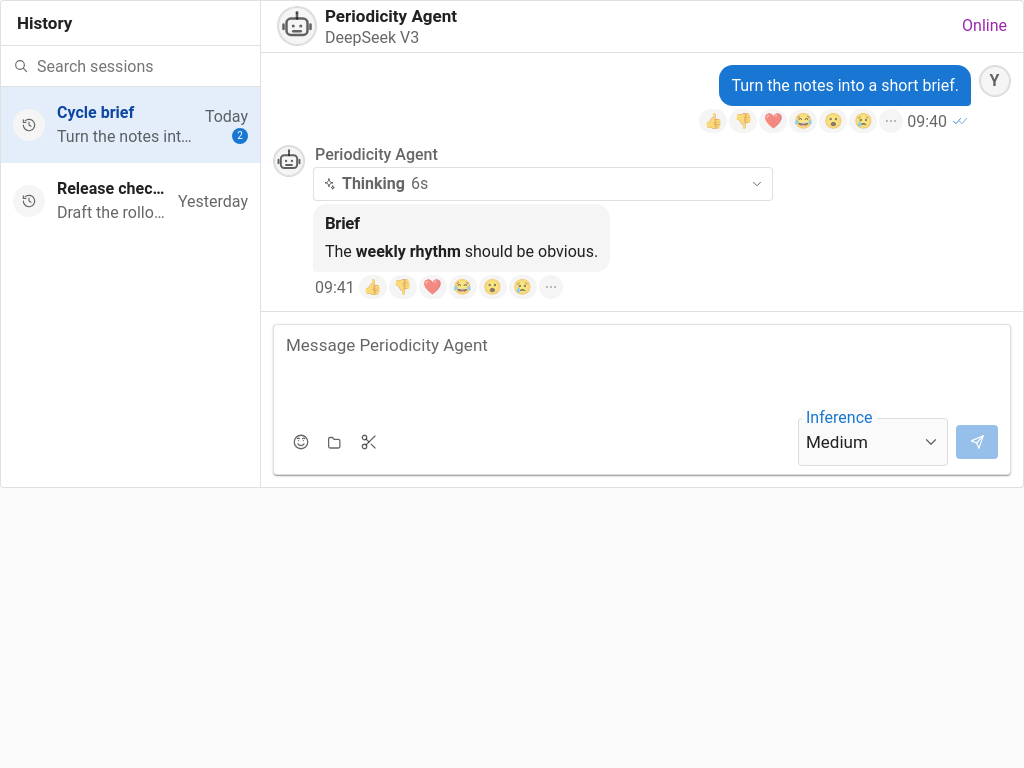
agent chat › changes the inference level through the shared Select component
The width and height of the screenshot is (1024, 768).
Click the dropdown named "Inference": [873, 442] box [798, 418, 948, 466]
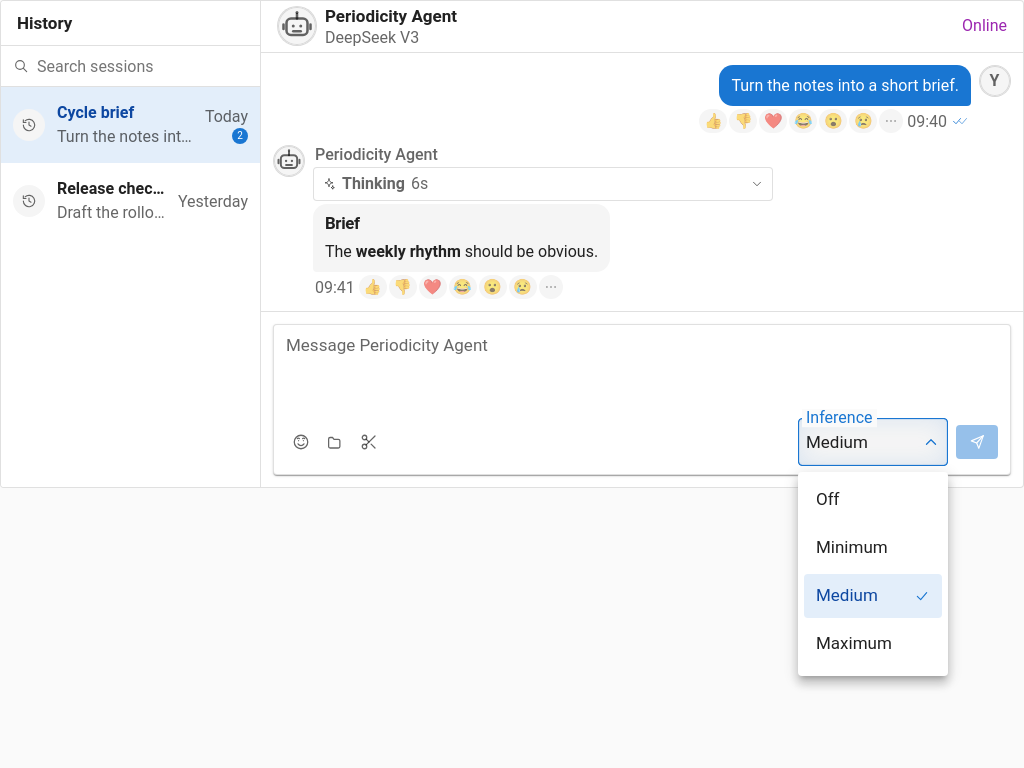
Click the option "Maximum": [873, 644] box [804, 622, 942, 666]
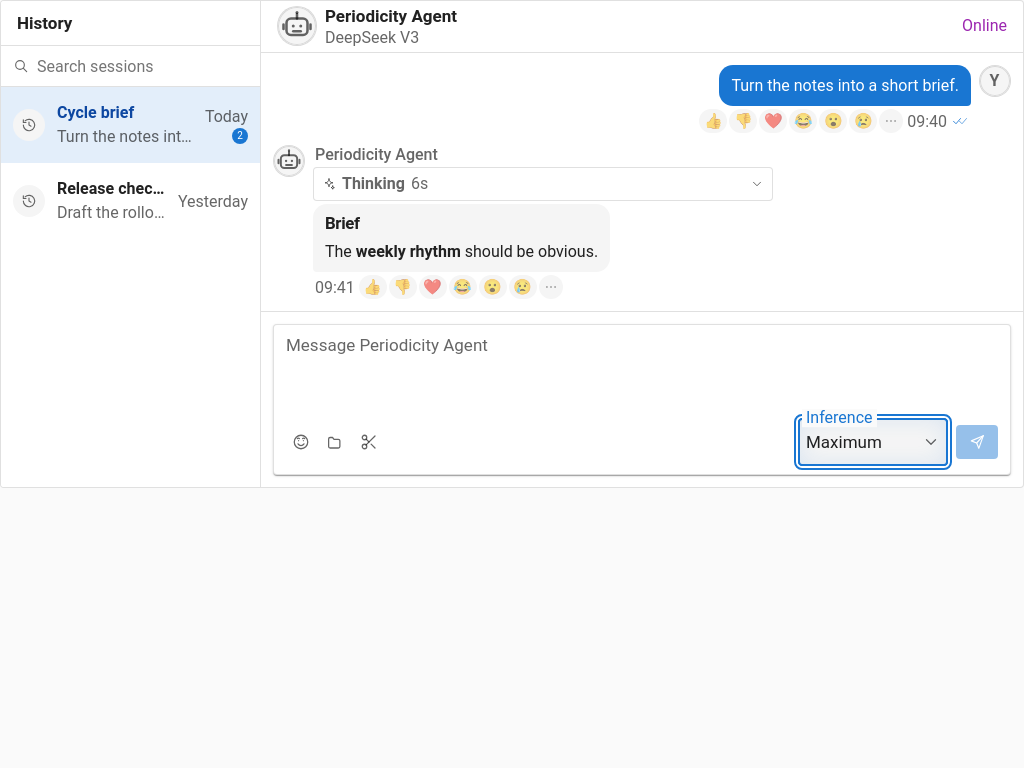
Check: the dropdown named "Inference" reads "Maximum", box [798, 418, 948, 466]
